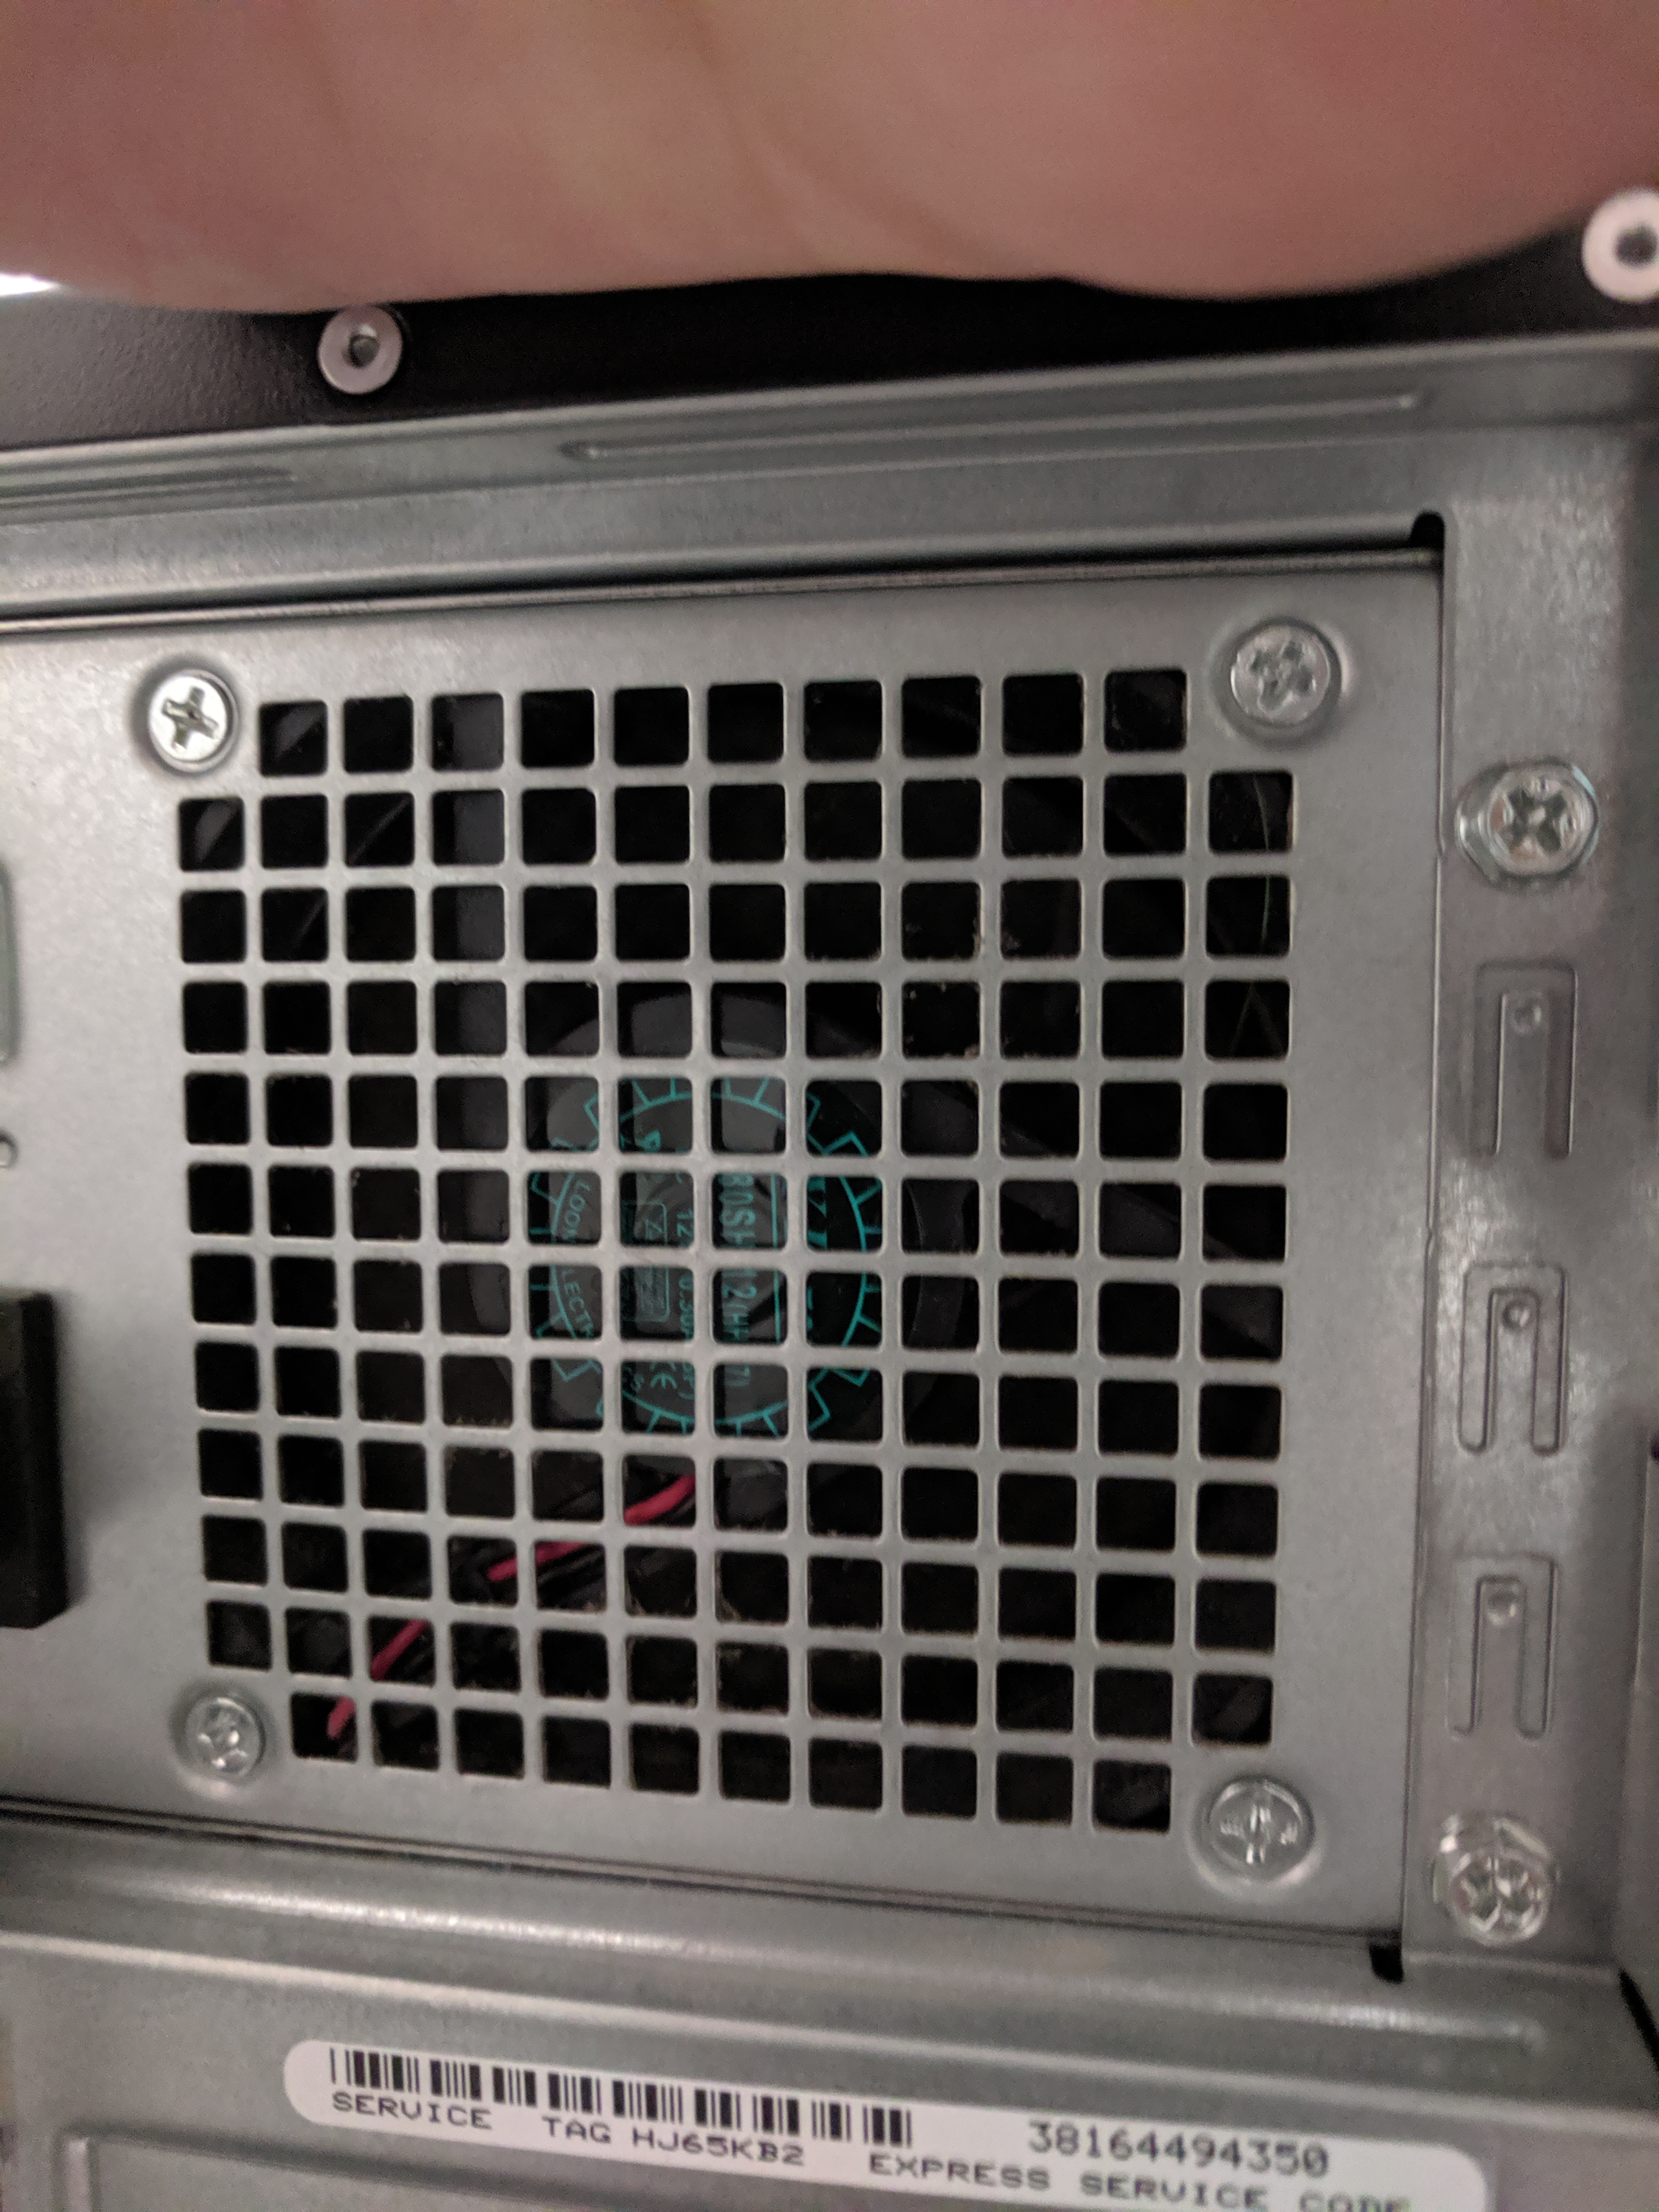cross_recessed_screw: (1427, 1824, 1567, 1954), (1460, 752, 1600, 880), (1222, 622, 1342, 737), (1195, 1768, 1319, 1879), (127, 662, 237, 766), (169, 1684, 270, 1794)
